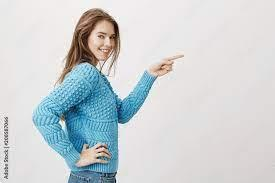Point-Right: (146, 52, 185, 83)
